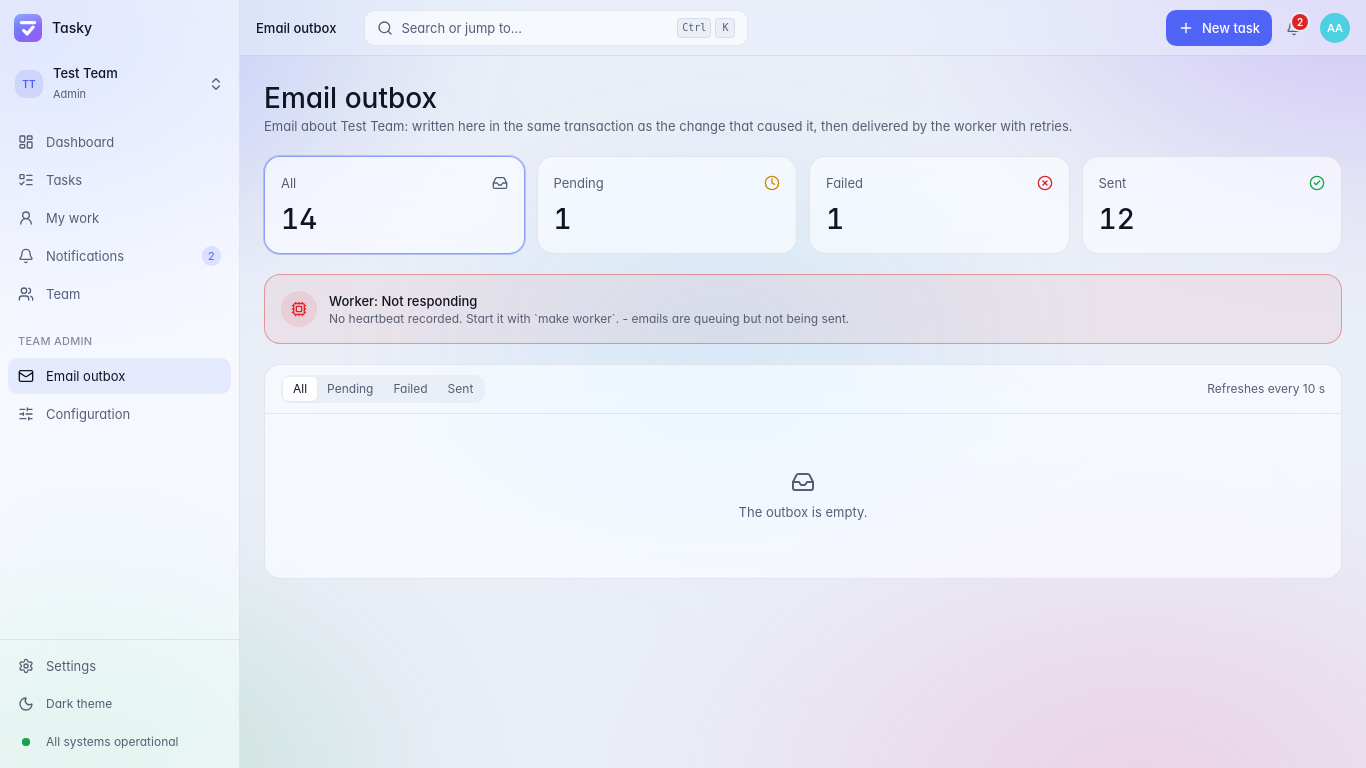
Scenario: admin outbox › warns when the worker is not responding and filters by status
Expected: the text "Worker: Not responding" is shown, x1=329 y1=293 x2=477 y2=309
Click the button "Failed".
click(411, 389)  # box x1=384 y1=377 x2=438 y2=401
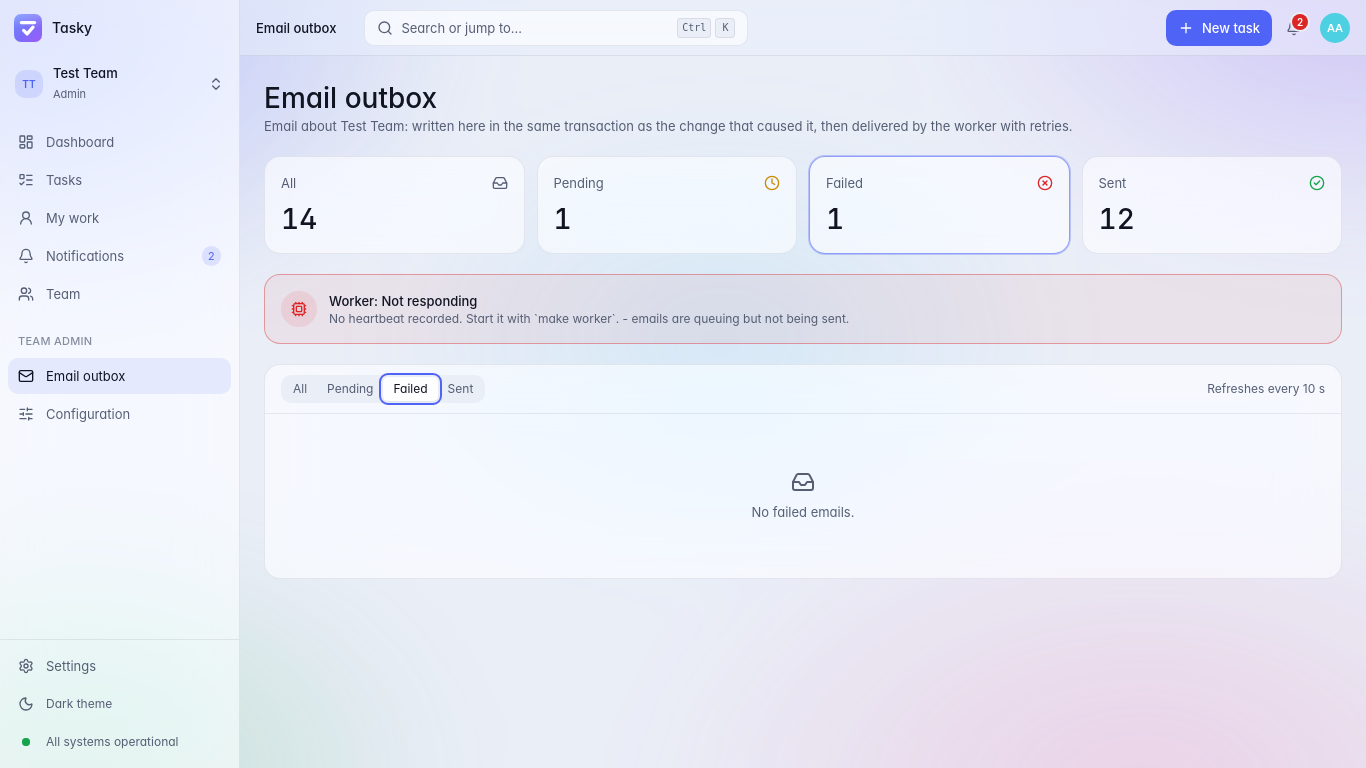
Result: the text "No failed emails." is shown at x1=752 y1=502 x2=854 y2=522
